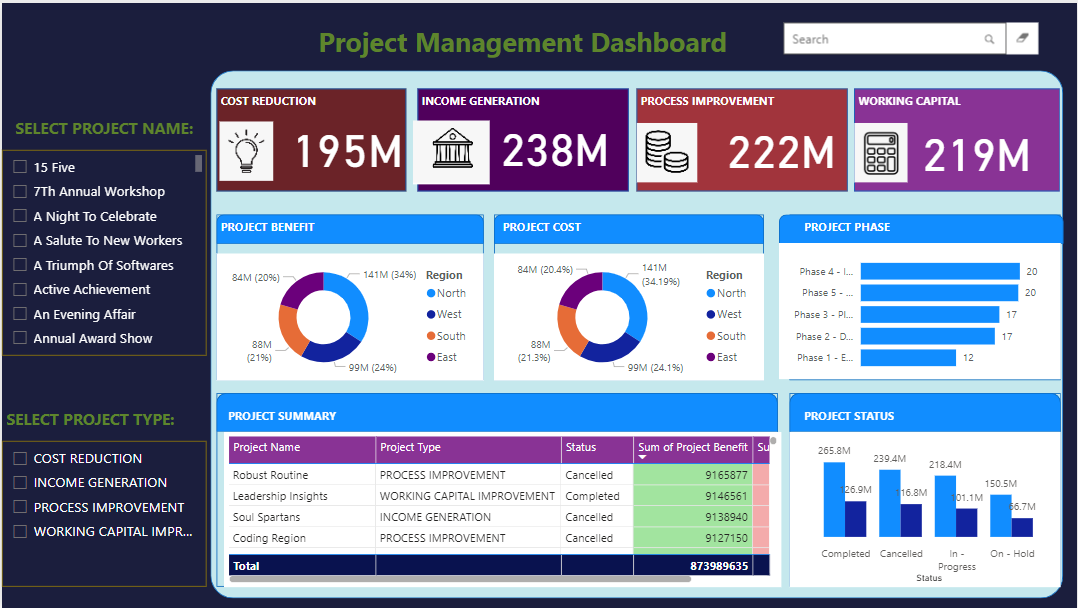

What the dashboard file says about the page in this screenshot:
{"tool":"powerbi","page":{"name":"PROJECT MANAGEMENT DASHBOARD","canvas":[1280,720],"ordinal":0},"visuals":[{"type":"image","box":[660.1,187.7,130.4,98.6],"z":1000},{"type":"image","box":[884.4,187.7,130.4,98.6],"z":2000},{"type":"image","box":[416.7,187.7,130.4,98.6],"z":3000},{"type":"shape","box":[248.1,81.1,1014.8,628.3],"z":4000},{"type":"shape","box":[256.1,101.8,225.9,122.5],"z":5000},{"type":"shape","box":[494.7,101.8,251.3,122.5],"z":6000},{"type":"shape","box":[755.5,101.8,251.3,122.5],"z":7000},{"type":"shape","box":[1014.8,101.8,245,122.5],"z":8000},{"type":"textbox","box":[370.6,17.5,518.5,52.5],"z":9000},{"type":"image","box":[243.4,135.2,95.4,81.1],"z":10000},{"type":"image","box":[483.5,124.1,101.8,109.8],"z":11000},{"type":"image","box":[730.1,136.8,122.5,81.1],"z":12000},{"type":"image","box":[1000.5,136.8,92.3,81.1],"z":13000},{"type":"textFilter25A4896A83E0487089E2B90C9AE57C8A","fields":{"field":["Project Management Dataset.Project Name"]},"box":[924.1,17.5,313.4,52.5],"z":14000},{"type":"slicer","fields":{"Values":["Project Management Dataset.Project Name"]},"box":[0,175,243.4,245],"z":15000},{"type":"slicer","fields":{"Values":["Project Management Dataset.Project Type"]},"box":[0,521.7,243.4,173.4],"z":16000},{"type":"textbox","box":[11.1,130.4,232.2,46.1],"z":17000},{"type":"textbox","box":[0,477.2,227.5,39.8],"z":18000},{"type":"textbox","box":[256.1,101.8,225.9,35],"z":19000},{"type":"textbox","box":[494.7,101.8,251.3,28.6],"z":20000},{"type":"textbox","box":[755.5,101.8,245,35],"z":21000},{"type":"textbox","box":[1014.8,101.8,222.7,33.4],"z":22000},{"type":"shape","box":[256.1,251.3,318.1,197.2],"z":23000},{"type":"shape","box":[585.3,251.3,321.3,197.2],"z":24000},{"type":"shape","box":[936.9,251.3,322.9,197.2],"z":25000},{"type":"shape","box":[256.1,464.5,668.1,230.6],"z":26000},{"type":"shape","box":[936.9,464.5,322.9,230.6],"z":27000},{"type":"shape","box":[256.1,251.3,318.1,35],"z":28000},{"type":"shape","box":[585.3,251.3,321.3,35],"z":29000},{"type":"shape","box":[924.1,251.3,338.8,35],"z":30000},{"type":"shape","box":[256.1,464.5,668.1,46.1],"z":31000},{"type":"shape","box":[936.9,464.5,322.9,46.1],"z":32000},{"type":"card","fields":{"Values":["Sum(Project Management Dataset. Project Benefit )"]},"box":[338.8,124.1,143.2,92.3],"z":33000},{"type":"card","fields":{"Values":["Sum(Project Management Dataset. Project Benefit )"]},"box":[585.3,119.3,144.7,97],"z":34000},{"type":"card","fields":{"Values":["Sum(Project Management Dataset. Project Benefit )"]},"box":[852.6,125.7,147.9,90.7],"z":35000},{"type":"card","fields":{"Values":["Sum(Project Management Dataset. Project Benefit )"]},"box":[1081.6,128.8,155.9,90.7],"z":36000},{"type":"donutChart","fields":{"Y":["Sum(Project Management Dataset. Project Cost )"],"Category":["Project Management Dataset.Region"]},"box":[256.1,297.4,318.1,151.1],"z":37000},{"type":"textbox","box":[256.1,251.3,307,35],"z":38000},{"type":"donutChart","fields":{"Y":["Sum(Project Management Dataset. Project Cost )"],"Category":["Project Management Dataset.Region"]},"box":[585.3,297.4,321.3,151.1],"z":39000},{"type":"textbox","box":[590.1,251.3,202,46.1],"z":40000},{"type":"clusteredBarChart","fields":{"Y":["Sum(Project Management Dataset.Completion%)"],"Category":["Project Management Dataset.Phase"]},"box":[924.1,286.3,335.6,162.2],"z":41000},{"type":"textbox","box":[949.6,251.3,287.9,35],"z":42000},{"type":"tableEx","fields":{"Values":["Project Management Dataset.Project Name","Project Management Dataset.Project Type","Project Management Dataset.Status","Sum(Project Management Dataset. Project Benefit )","Sum(Project Management Dataset. Project Cost )"]},"box":[264,510.6,663.3,184.5],"z":43000},{"type":"textbox","box":[264,477.2,321.3,33.4],"z":44000},{"type":"clusteredColumnChart","fields":{"Y":["Sum(Project Management Dataset. Project Benefit )","Sum(Project Management Dataset. Project Cost )"],"Category":["Project Management Dataset.Status"]},"box":[936.9,510.6,322.9,184.5],"z":45000},{"type":"textbox","box":[949.6,477.2,210,33.4],"z":46000},{"type":"image","box":[6.4,0,120.9,136.8],"z":46001}]}

Visuals, with their boxes in screenshot pixels (x1, y1, x2, y2), scaled from the page's 1280x720 canvas onto the 1078x609 screenshot:
image: 556 159 666 242
image: 745 159 855 242
image: 351 159 461 242
shape: 209 69 1064 600
shape: 216 86 406 190
shape: 417 86 628 190
shape: 636 86 848 190
shape: 855 86 1061 190
textbox: 312 15 749 59
image: 205 114 285 183
image: 407 105 493 198
image: 615 116 718 184
image: 843 116 920 184
textFilter25A4896A83E0487089E2B90C9AE57C8A - Project Management Dataset.Project Name: 778 15 1042 59
slicer - Project Management Dataset.Project Name: 0 148 205 355
slicer - Project Management Dataset.Project Type: 0 441 205 588
textbox: 9 110 205 149
textbox: 0 404 192 437
textbox: 216 86 406 116
textbox: 417 86 628 110
textbox: 636 86 843 116
textbox: 855 86 1042 114
shape: 216 213 484 379
shape: 493 213 764 379
shape: 789 213 1061 379
shape: 216 393 778 588
shape: 789 393 1061 588
shape: 216 213 484 242
shape: 493 213 764 242
shape: 778 213 1064 242
shape: 216 393 778 432
shape: 789 393 1061 432
card - Sum(Project Management Dataset. Project Benefit ): 285 105 406 183
card - Sum(Project Management Dataset. Project Benefit ): 493 101 615 183
card - Sum(Project Management Dataset. Project Benefit ): 718 106 843 183
card - Sum(Project Management Dataset. Project Benefit ): 911 109 1042 186
donutChart - Sum(Project Management Dataset. Project Cost ) x Project Management Dataset.Region: 216 252 484 379
textbox: 216 213 474 242
donutChart - Sum(Project Management Dataset. Project Cost ) x Project Management Dataset.Region: 493 252 764 379
textbox: 497 213 667 252
clusteredBarChart - Sum(Project Management Dataset.Completion%) x Project Management Dataset.Phase: 778 242 1061 379
textbox: 800 213 1042 242
tableEx - Project Management Dataset.Project Name x Project Management Dataset.Project Type: 222 432 781 588
textbox: 222 404 493 432
clusteredColumnChart - Sum(Project Management Dataset. Project Benefit ) x Sum(Project Management Dataset. Project Cost ): 789 432 1061 588
textbox: 800 404 977 432
image: 5 0 107 116
